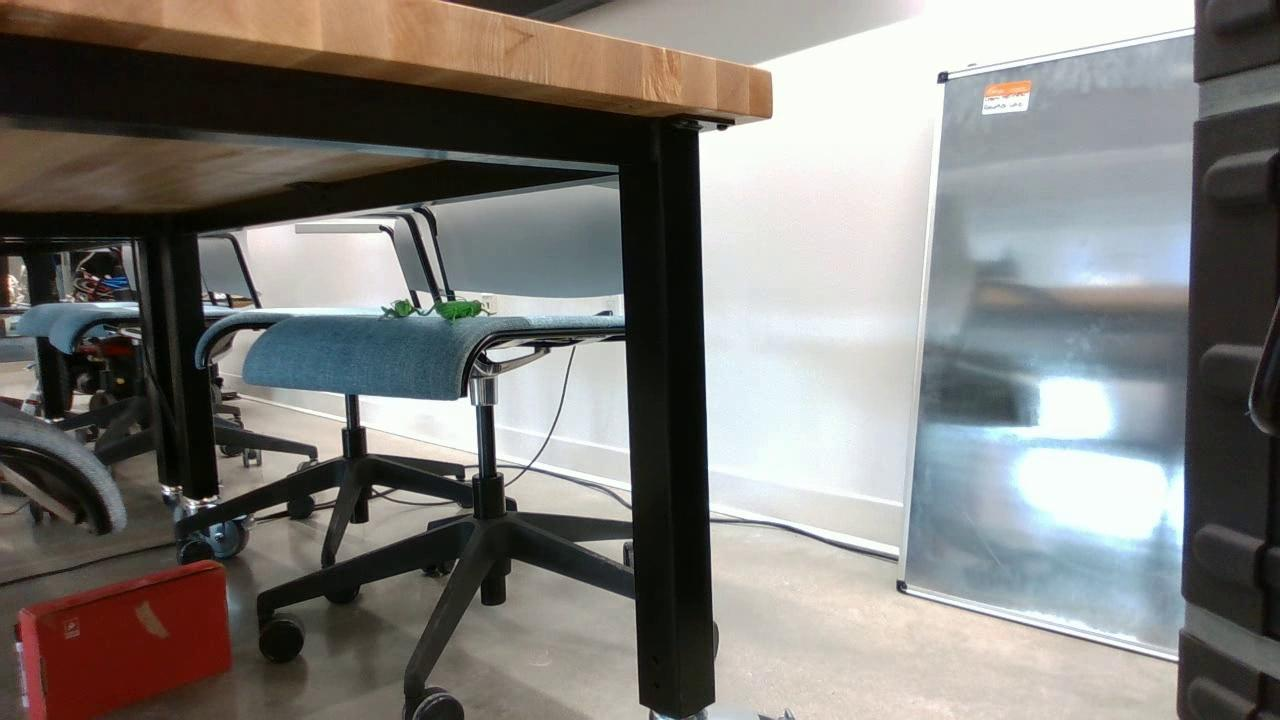grasshopper: (433, 298, 497, 319), (382, 300, 424, 322)
